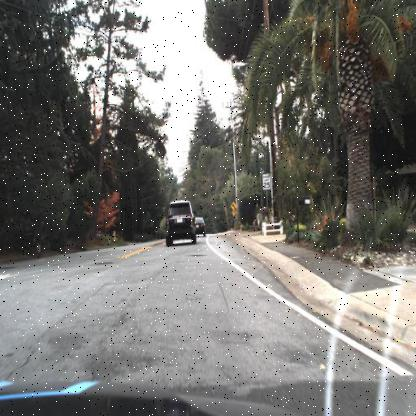car: (164, 197, 197, 250), (194, 211, 206, 239), (194, 216, 206, 238)
